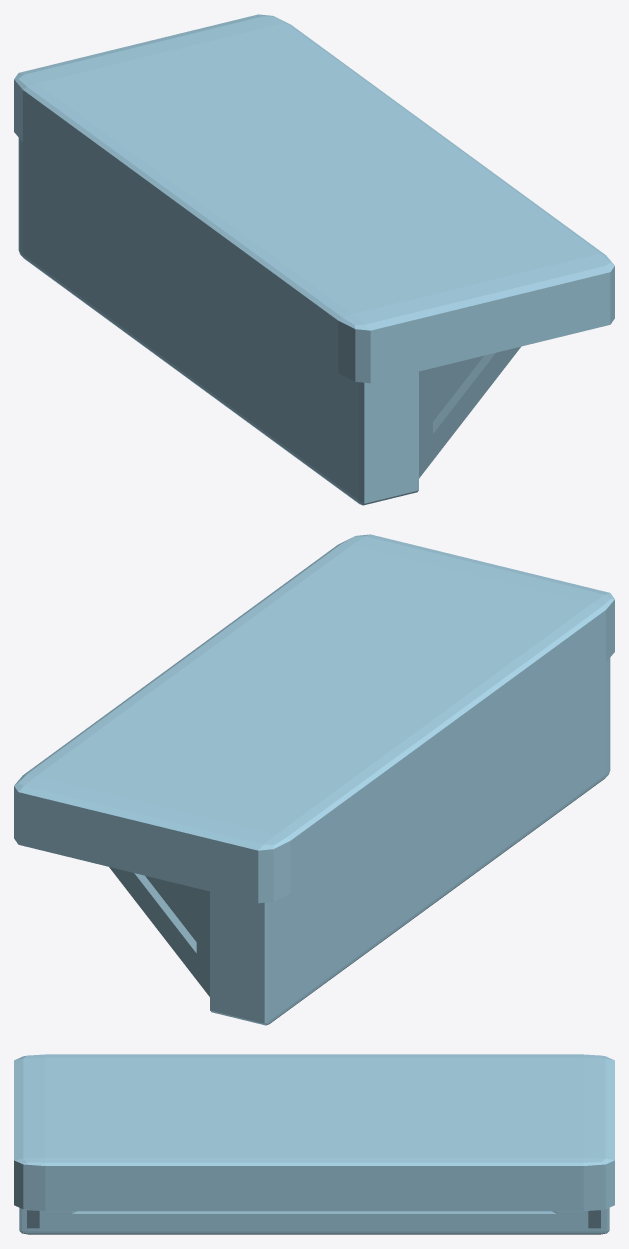
File: MugShelfBlue.fbx
3 renders of one model, top to bottom at view 1: azimuth 30°, elevation 25°; view 2: azimuth 150°, elevation 25°; view 3: azimuth 270°, elevation 25°, orthographic. The views are drawn at different scales.
Visible parts, largest first — view 1: Cube, Cube.001; view 2: Cube, Cube.002; view 3: Cube.
Part boxes in pixels (left/top/right/bottom): Cube: left=14, top=14, right=614, bottom=505; Cube.001: left=419, top=346, right=520, bottom=478; Cube: left=14, top=534, right=614, bottom=1025; Cube.002: left=109, top=867, right=209, bottom=996; Cube: left=14, top=1054, right=614, bottom=1234.
Size of the model in its own units: 554 by 359 by 1261.
